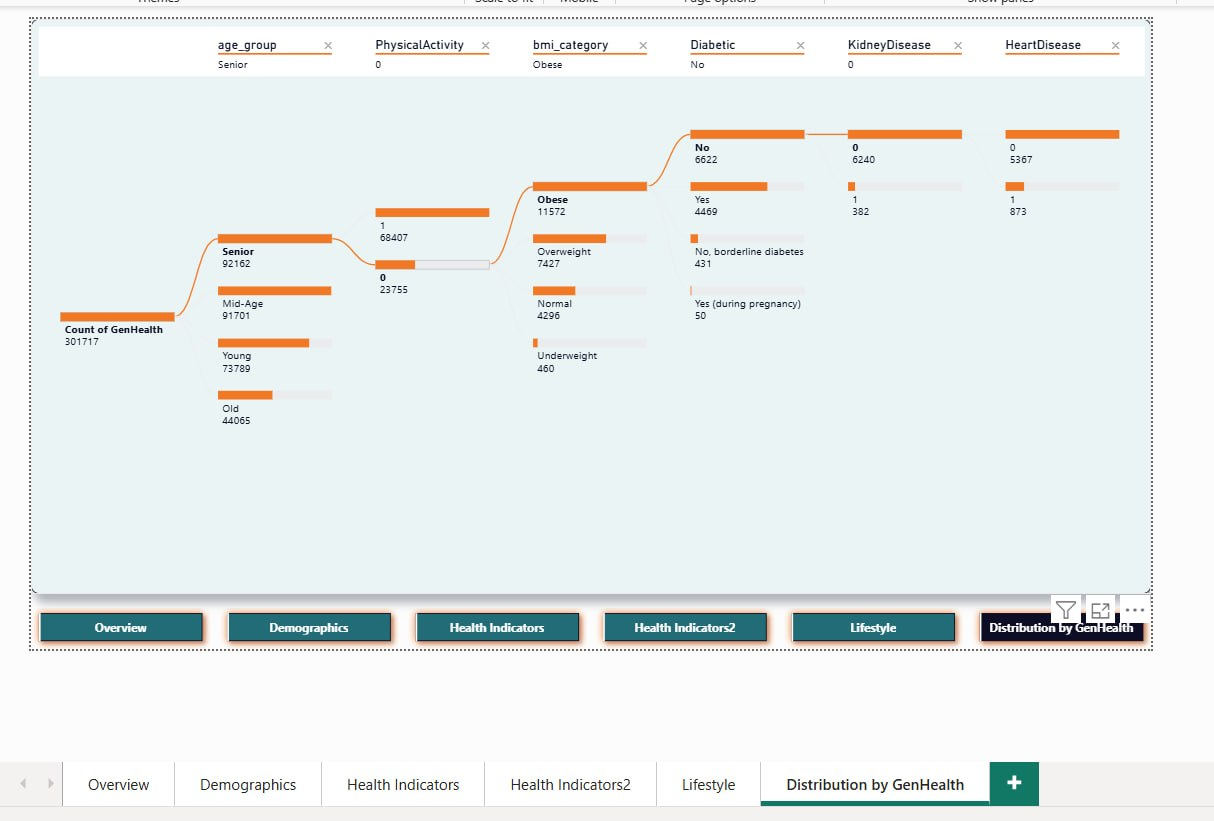

What the dashboard file says about the page in this screenshot:
{"tool":"powerbi","page":{"name":"Distribution by GenHealth","canvas":[1280,720],"ordinal":5},"visuals":[{"type":"pageNavigator","box":[0,670,1280,50],"z":0},{"type":"decompositionTreeVisual","fields":{"ExplainBy":["heart_disease_transformed.age_group","heart_disease_transformed.PhysicalActivity","heart_disease_transformed.bmi_category","heart_disease_transformed.Diabetic","heart_disease_transformed.KidneyDisease","heart_disease_transformed.HeartDisease"],"Analyze":["CountNonNull(heart_disease_transformed.GenHealth)"]},"box":[0,0,1280,657.1],"z":2000}]}

Visuals, with their boxes on the page's 1280x720 design canvas (x1, y1, x2, y2). These are canvas units, not pixel positions in the 1214x821 screenshot, which may show the page scaled, cropped or inside an application window:
pageNavigator: left=0, top=670, right=1280, bottom=720
decompositionTreeVisual - heart_disease_transformed.age_group x heart_disease_transformed.PhysicalActivity: left=0, top=0, right=1280, bottom=657
